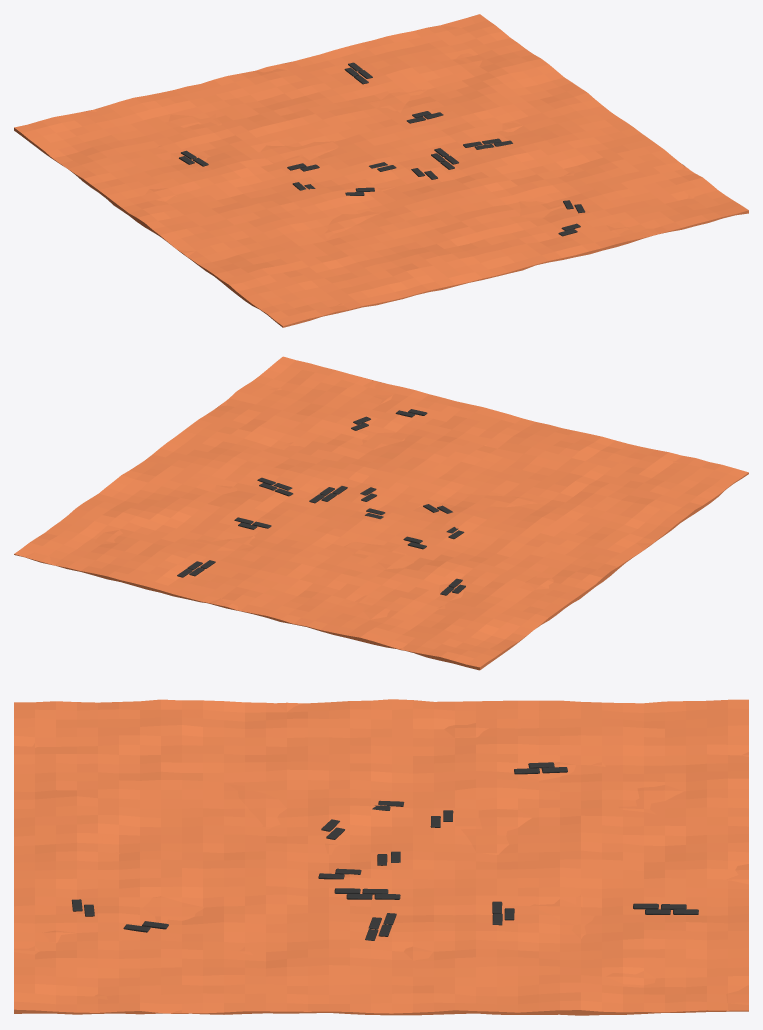
The model's file is bigGround.obj.
3 renders of one model, top to bottom at view 1: azimuth 30°, elevation 25°; view 2: azimuth 150°, elevation 25°; view 3: azimuth 270°, elevation 25°, orthographic. The views are drawn at different scales.
Parts seen in each view (by area): view 1: Plane.001; view 2: Plane.001; view 3: Plane.001.
Boxes of the visible parts, box(x1,y1,x2,y2) form: Plane.001: box(14, 14, 748, 327); Plane.001: box(14, 356, 748, 670); Plane.001: box(14, 699, 748, 1015).
Bounding box in the file's own units: 48 × 0.645 × 48.
